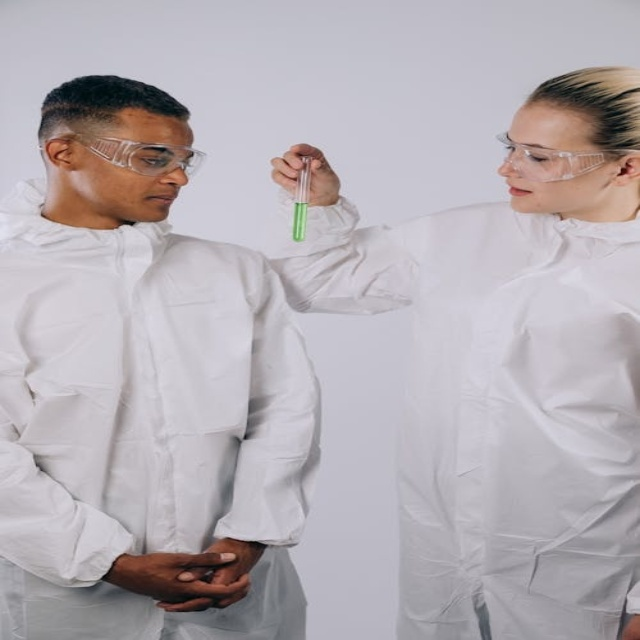Gafas: (45, 135, 207, 179), (497, 133, 628, 182)
Sin_guantes: (114, 546, 251, 608), (262, 138, 347, 206)
Sin_mascara: (128, 186, 182, 219), (504, 180, 545, 212)
